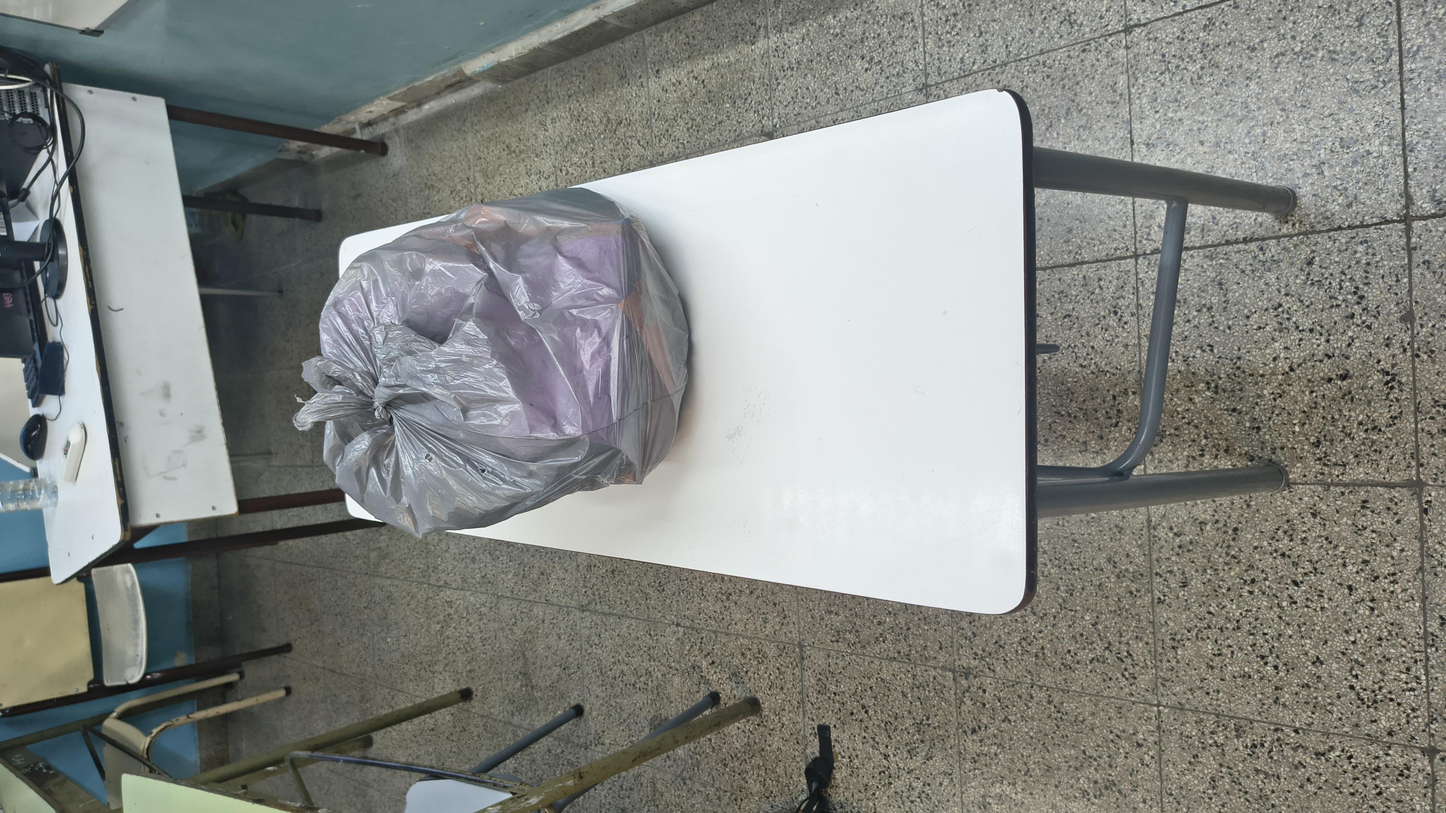Garbage: (452, 149, 1174, 399)
